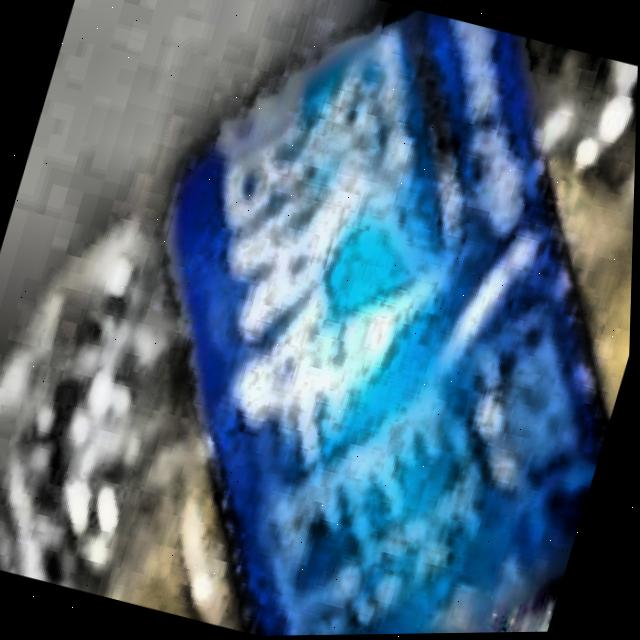plastic: (0, 9, 638, 637)
